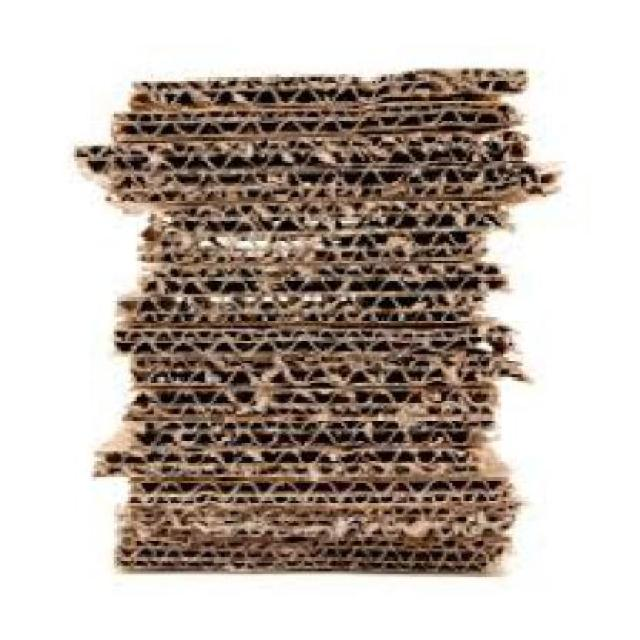CARDBOARD: (76, 128, 524, 168), (128, 66, 523, 111), (91, 434, 483, 477), (108, 94, 512, 134), (128, 354, 521, 392), (113, 534, 501, 572), (122, 468, 509, 506), (114, 322, 509, 358), (103, 168, 552, 198), (151, 194, 509, 229), (136, 225, 481, 261), (125, 382, 498, 415), (133, 259, 504, 292), (116, 291, 487, 323), (117, 502, 509, 532), (125, 414, 492, 446)
